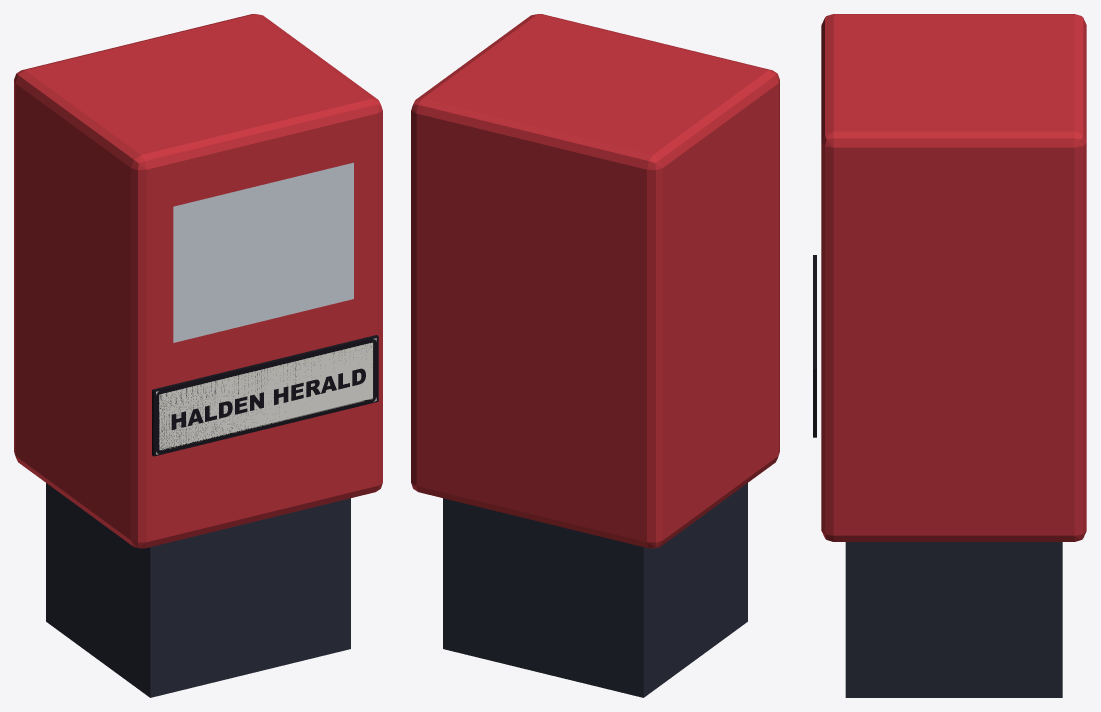
The model's file is newsbox.glb.
3 renders of one model, left to right at view 1: azimuth 30°, elevation 25°; view 2: azimuth 150°, elevation 25°; view 3: azimuth 270°, elevation 25°, orthographic. The views are drawn at different scales.
Parts seen in each view (by area): view 1: newsbox; view 2: newsbox; view 3: newsbox.
Part boxes in pixels (x1,y1,x2,y2): newsbox: (14, 14, 382, 697); newsbox: (411, 14, 779, 697); newsbox: (813, 14, 1086, 697).
Bounding box in the file's own units: 0.5 × 1.05 × 0.462.
5 materials, 1 textured.
